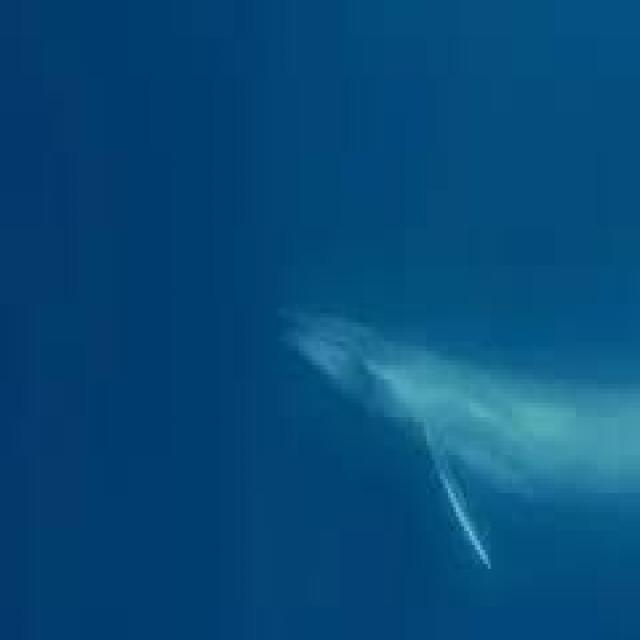blue_whale: (202, 237, 640, 625)
